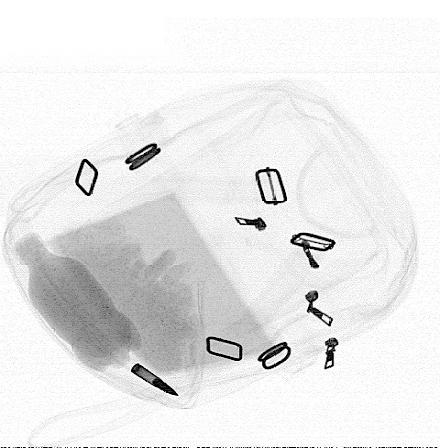Bullet: (129, 361, 180, 397)
